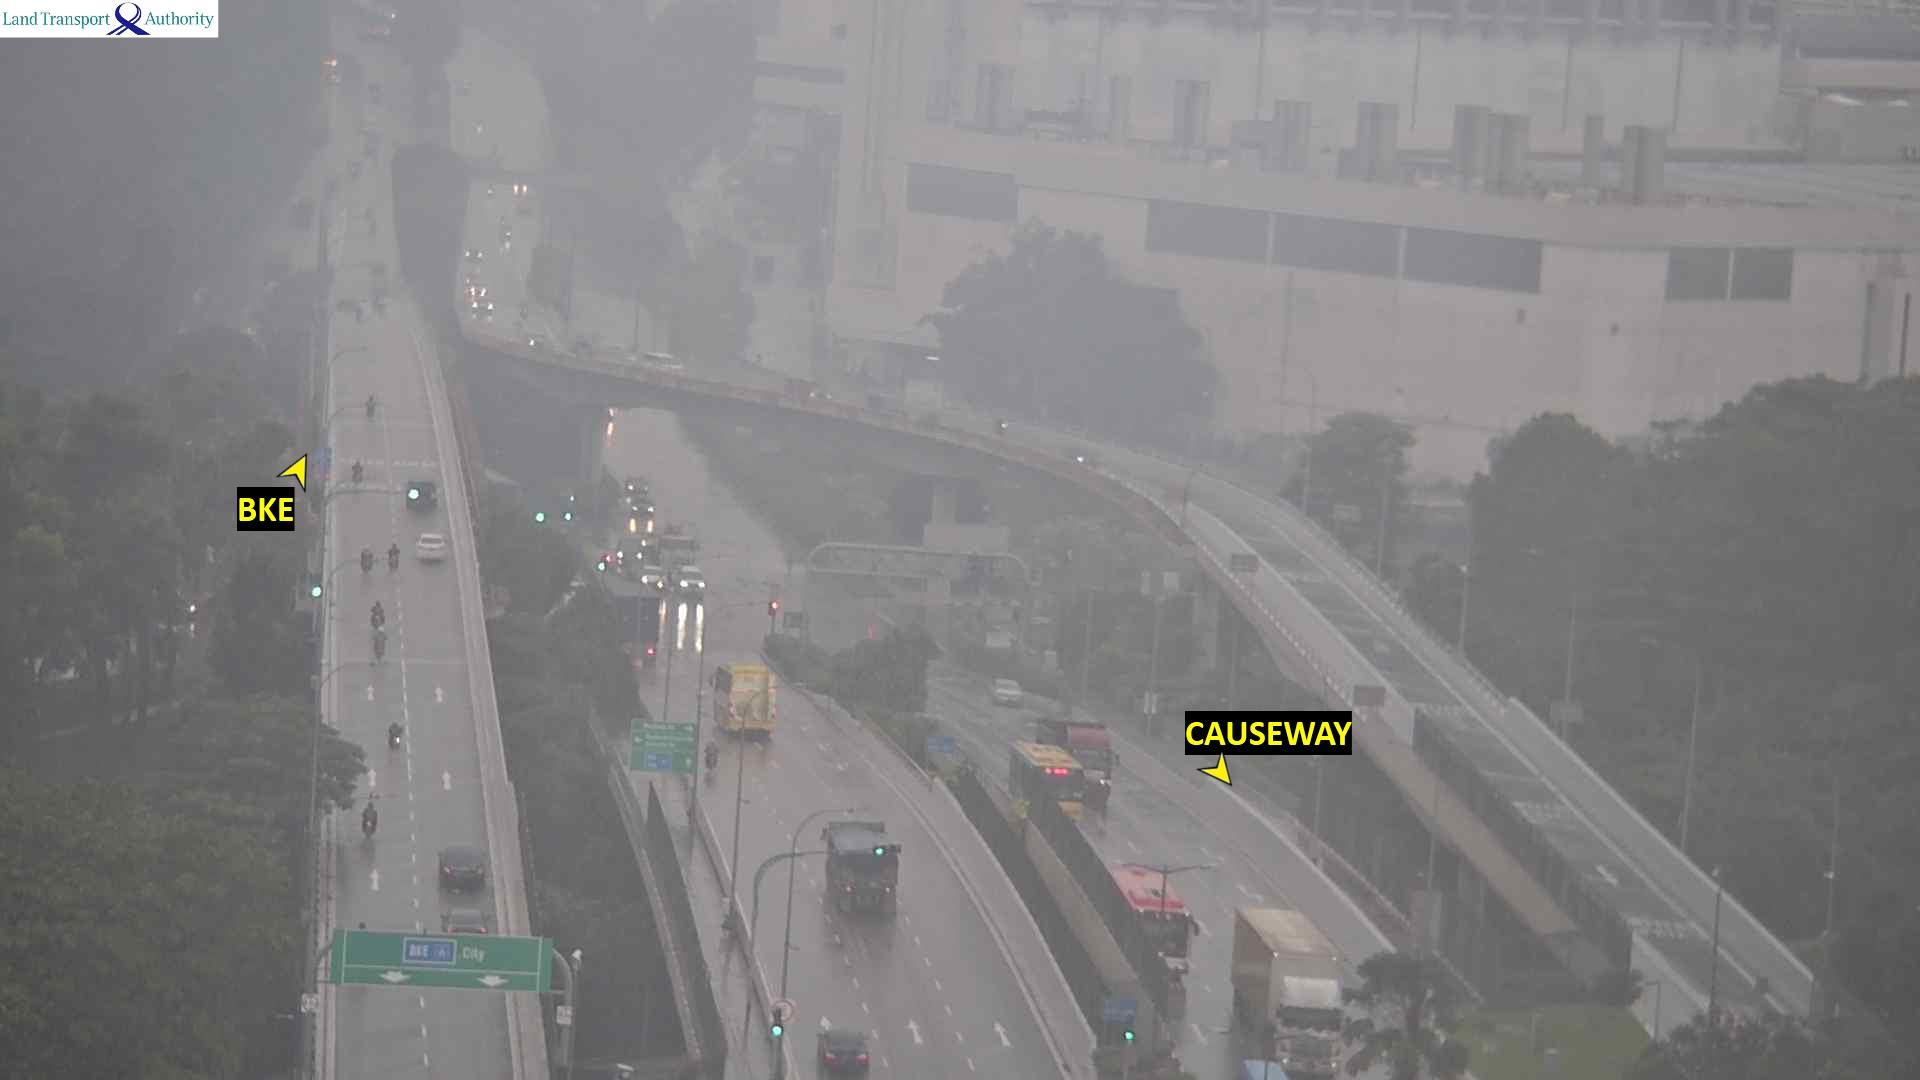vehicle-causeway-johor: (1237, 905, 1339, 1068), (1111, 864, 1188, 975), (1022, 741, 1084, 779), (677, 569, 709, 602), (641, 352, 682, 372), (465, 249, 490, 272), (464, 288, 494, 301), (472, 301, 496, 317), (1001, 415, 1011, 435), (518, 304, 532, 318)
vehicle-causeway-singapore: (825, 817, 904, 906), (715, 663, 776, 719), (436, 847, 491, 888), (417, 535, 451, 563), (407, 481, 438, 508), (373, 626, 385, 667), (390, 724, 408, 751), (370, 596, 385, 623), (364, 800, 377, 831), (388, 542, 400, 572), (361, 462, 375, 481), (363, 399, 377, 418)
